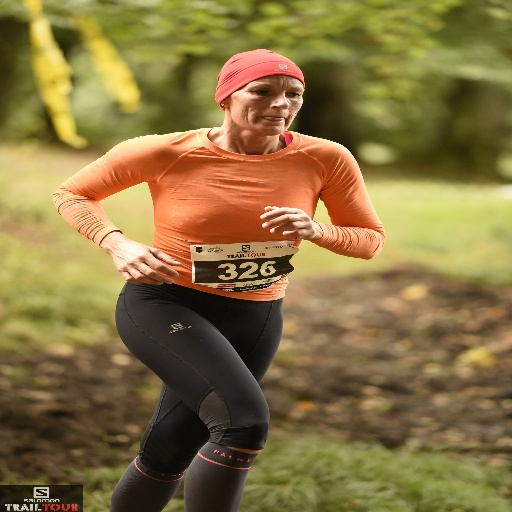hand: (107, 231, 168, 281), (259, 205, 318, 240)
